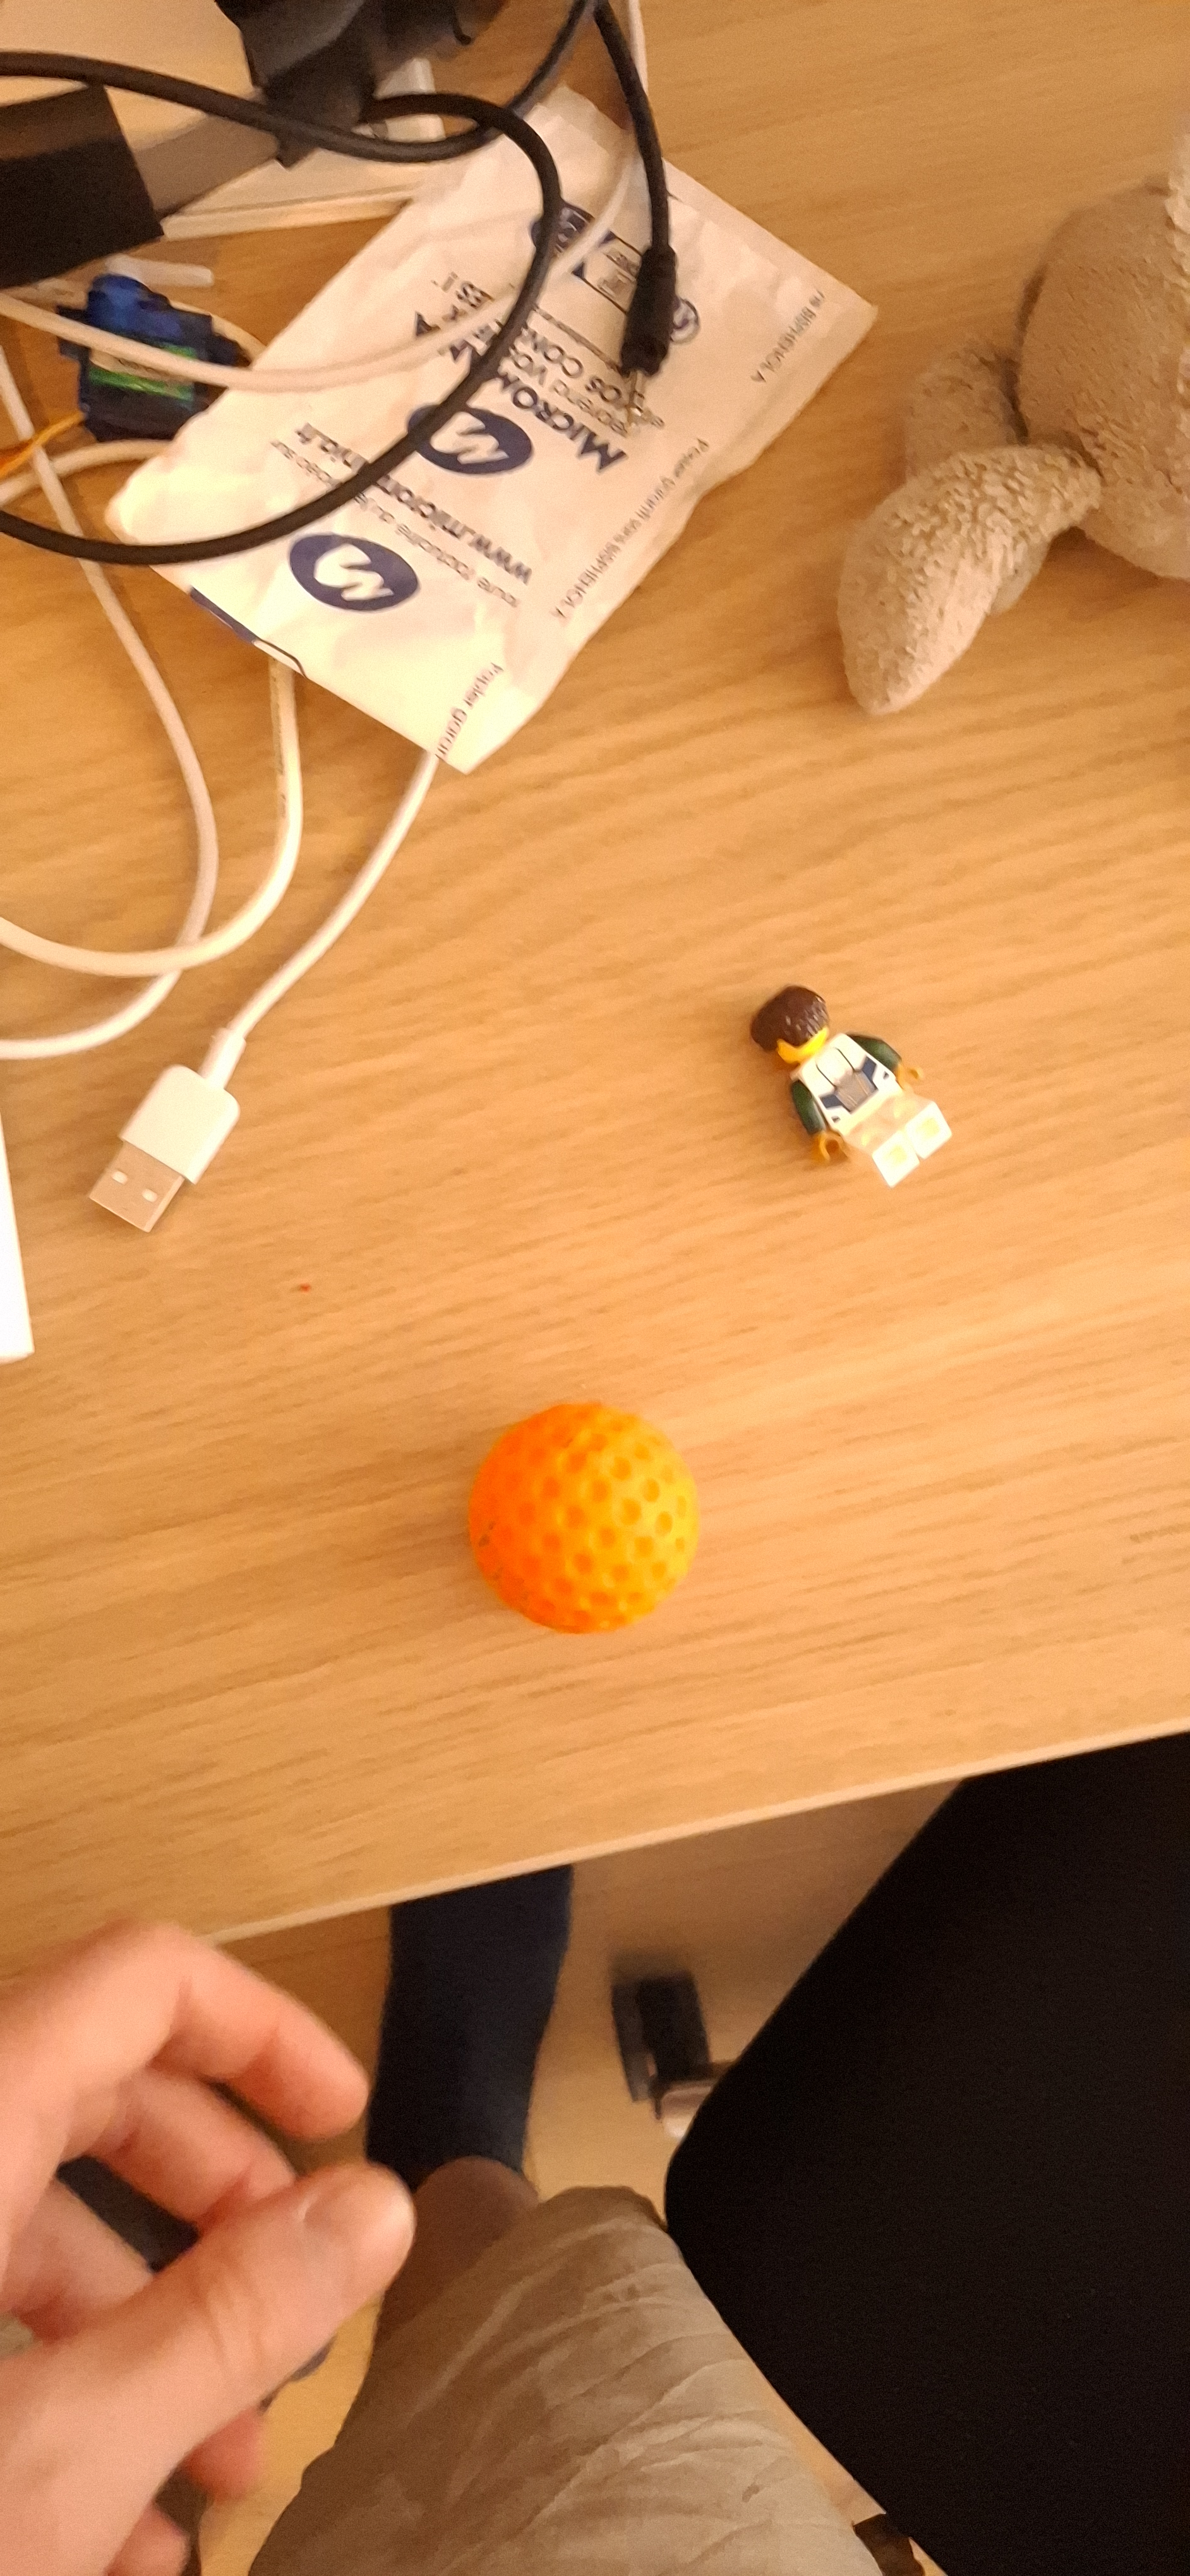ball: (649, 1066, 756, 1569)
